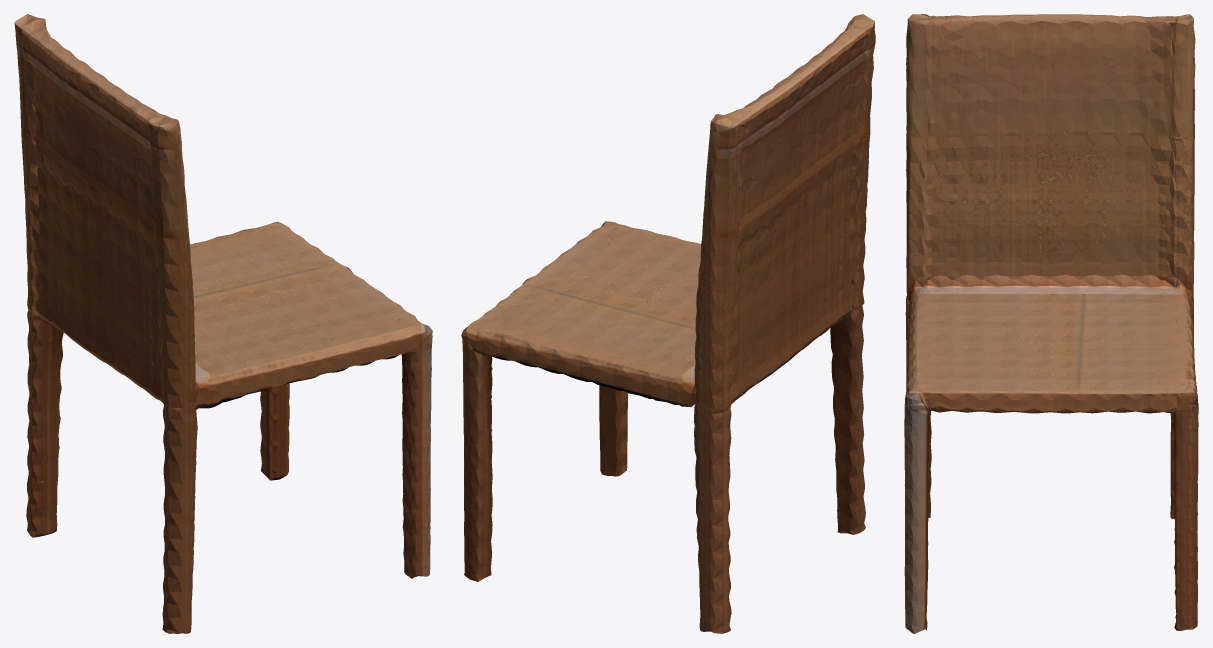
The model's file is elem_94_115_206_213_2_4.obj.
3 renders of one model, left to right at view 1: azimuth 30°, elevation 25°; view 2: azimuth 150°, elevation 25°; view 3: azimuth 270°, elevation 25°, orthographic. The views are drawn at different scales.
Size of the model in its own units: 0.3976 by 0.7047 by 0.3787.
1 material, 1 textured.
